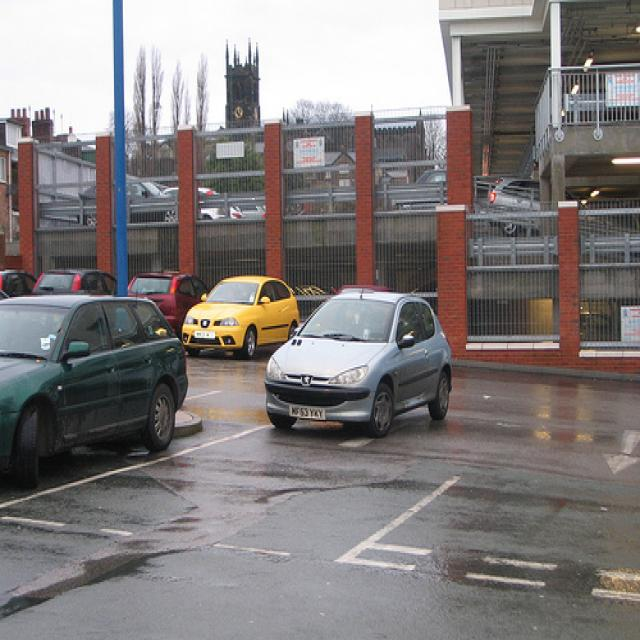Car: (0, 292, 190, 479), (262, 290, 455, 439), (187, 270, 304, 366), (132, 269, 211, 328)
